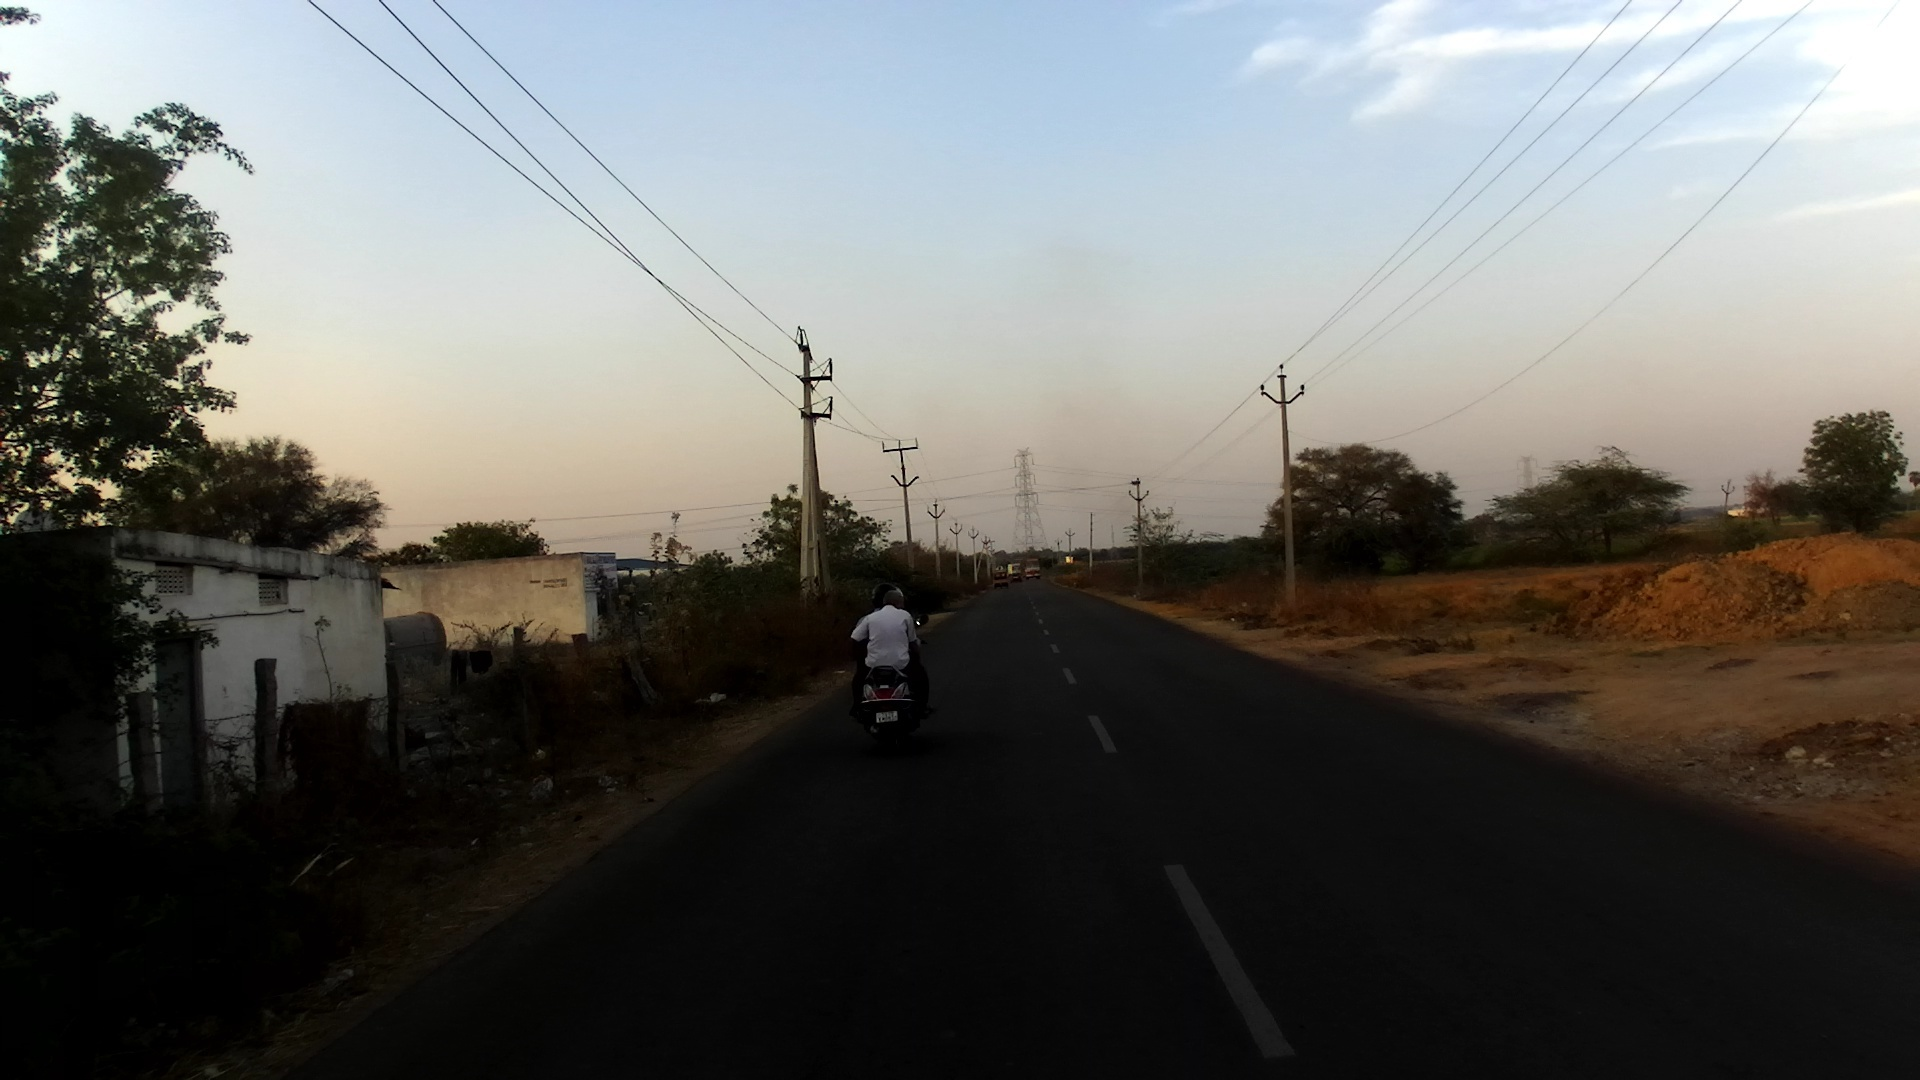autorickshaw: (990, 568, 1009, 587)
bus: (1023, 559, 1041, 579)
motorcycle: (853, 614, 942, 754)
rider: (843, 587, 943, 723), (853, 580, 926, 660)
truck: (1007, 564, 1022, 583)
